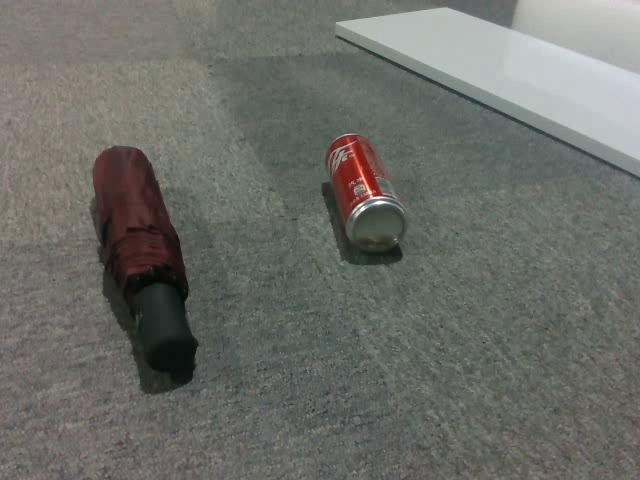CocaCola_Canned_Slender: (325, 135, 406, 252)
Umbrella_Fold_Brown: (93, 146, 192, 368)
